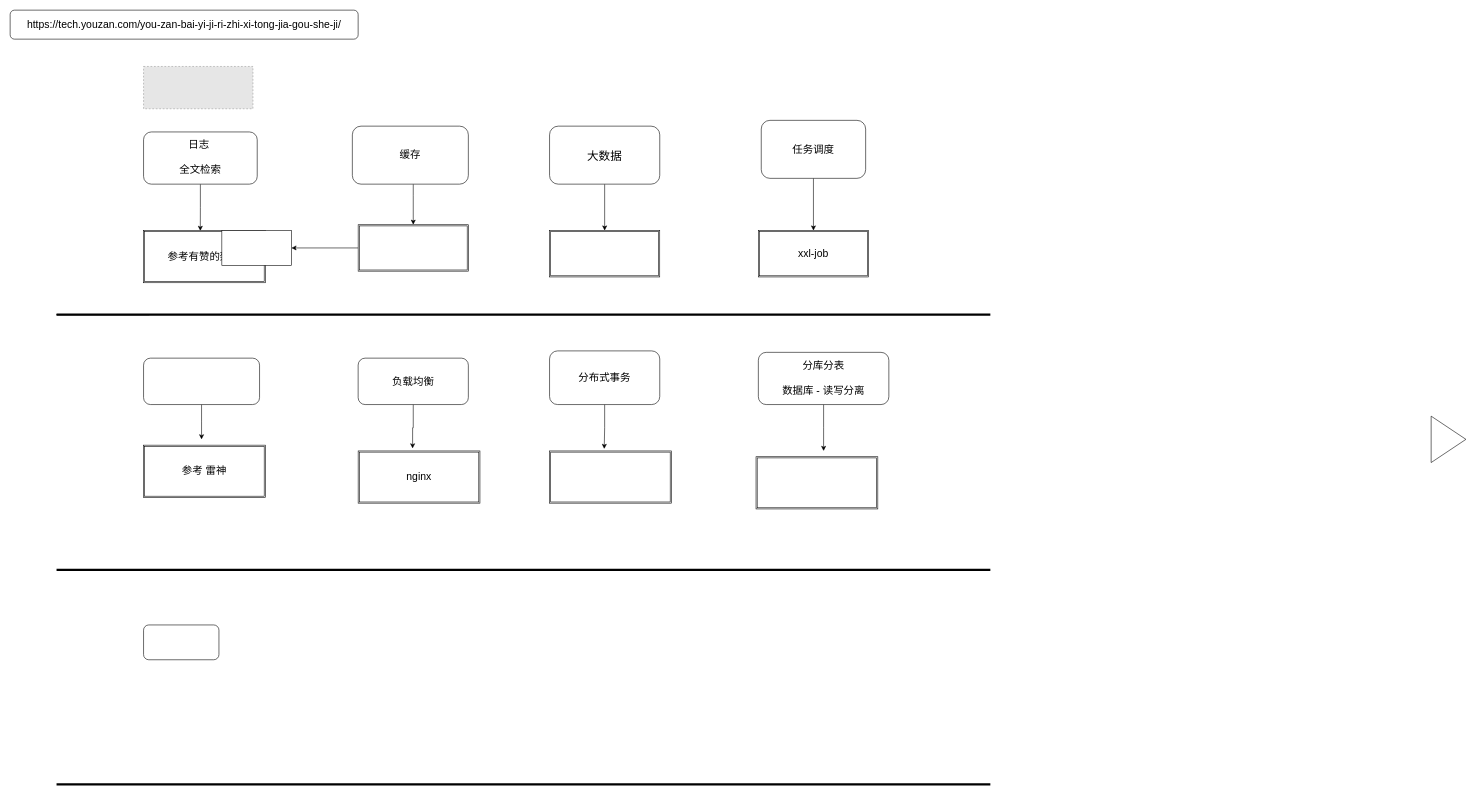
The diagram is 1476 pixels wide and 799 high, and some of its shapes have lost their labels. Grey dashed boxes stand in for pictures. The shapes that lost their labels are listed below. From the top down, each one's centre as x and y in pixels, then its label:
At point 413,247: "热点数据 排行榜 配合 Jemter 做测试".
At point 604,253: "spark flink".
At point 201,381: "高并发".
At point 610,476: "延迟队列 （kafka或者暂定）".
At point 816,482: "mysql sharding-jdbc".
At point 181,642: "登录".
